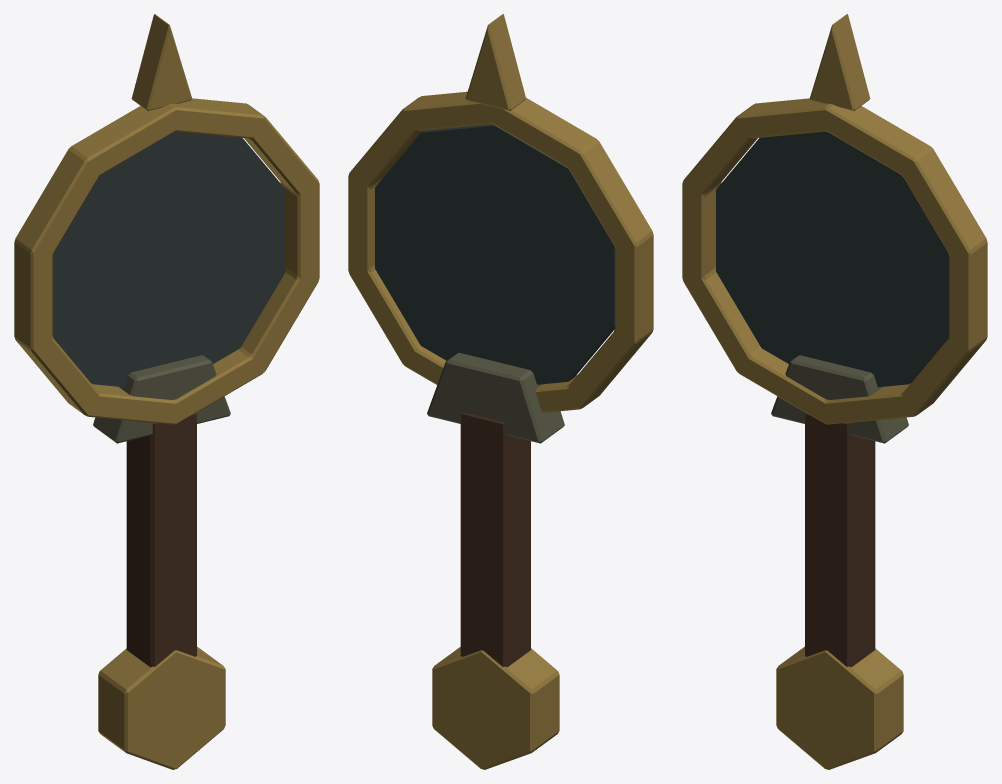
Rendered from rear_mirror.obj.
The picture shows the model from 3 angles, left to right: view 1: azimuth 30°, elevation 25°; view 2: azimuth 150°, elevation 25°; view 3: azimuth 330°, elevation 25°; orthographic projection.
Parts seen in each view (by area): view 1: B_Glass.001_smoked_glass, B_Frame.001_ritual_gold, B_Handle.001_dark_wood, B_Pommel.001_ritual_gold, B_Throat.001_oxidized_bronze, B_Finial.001_ritual_gold; view 2: B_Glass.001_smoked_glass, B_Frame.001_ritual_gold, B_Handle.001_dark_wood, B_Pommel.001_ritual_gold, B_Throat.001_oxidized_bronze, B_Finial.001_ritual_gold; view 3: B_Glass.001_smoked_glass, B_Frame.001_ritual_gold, B_Handle.001_dark_wood, B_Pommel.001_ritual_gold, B_Throat.001_oxidized_bronze, B_Finial.001_ritual_gold.
Boxes of the visible parts, x1=… form: B_Glass.001_smoked_glass: x1=52, y1=131, x2=285, y2=387; B_Frame.001_ritual_gold: x1=14, y1=98, x2=319, y2=424; B_Handle.001_dark_wood: x1=126, y1=413, x2=196, y2=667; B_Pommel.001_ritual_gold: x1=98, y1=646, x2=225, y2=769; B_Throat.001_oxidized_bronze: x1=93, y1=355, x2=230, y2=443; B_Finial.001_ritual_gold: x1=131, y1=14, x2=191, y2=110; B_Glass.001_smoked_glass: x1=375, y1=124, x2=615, y2=384; B_Frame.001_ritual_gold: x1=348, y1=91, x2=653, y2=412; B_Handle.001_dark_wood: x1=460, y1=412, x2=530, y2=667; B_Pommel.001_ritual_gold: x1=432, y1=647, x2=559, y2=769; B_Throat.001_oxidized_bronze: x1=427, y1=352, x2=564, y2=443; B_Finial.001_ritual_gold: x1=465, y1=14, x2=526, y2=110; B_Glass.001_smoked_glass: x1=716, y1=131, x2=949, y2=387; B_Frame.001_ritual_gold: x1=682, y1=98, x2=987, y2=424; B_Handle.001_dark_wood: x1=805, y1=413, x2=875, y2=667; B_Pommel.001_ritual_gold: x1=776, y1=646, x2=903, y2=769; B_Throat.001_oxidized_bronze: x1=771, y1=355, x2=908, y2=443; B_Finial.001_ritual_gold: x1=810, y1=14, x2=870, y2=110.
Size of the model in its own units: 0.9891 by 2.42 by 0.17.
